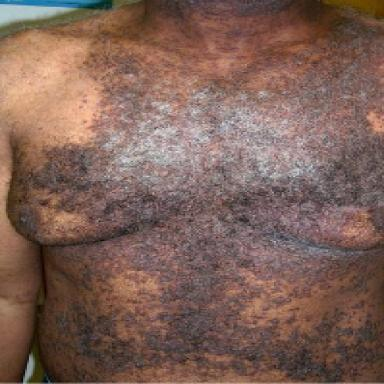Darier_s-Disease: (4, 0, 384, 383)
